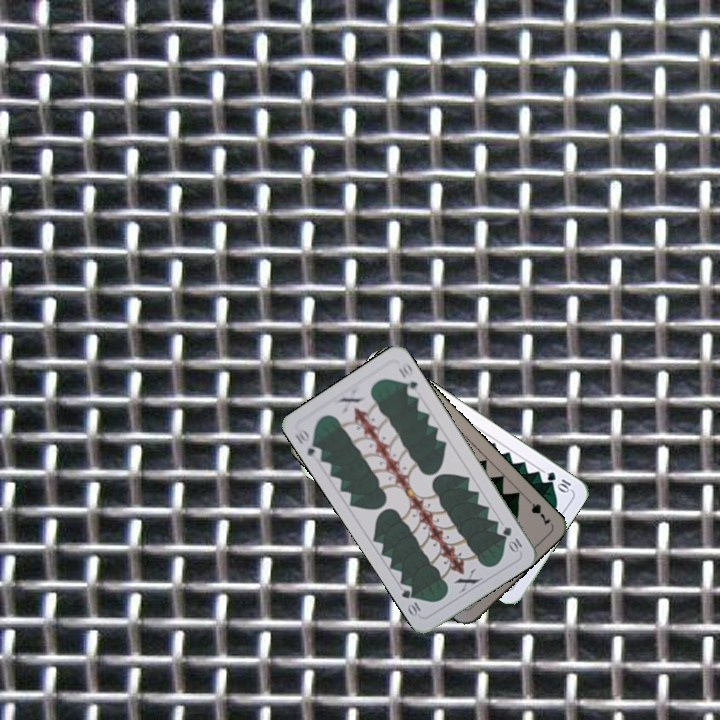G10: (290, 424, 325, 463), (543, 467, 574, 495), (498, 523, 525, 555)
G7: (521, 493, 553, 528)
